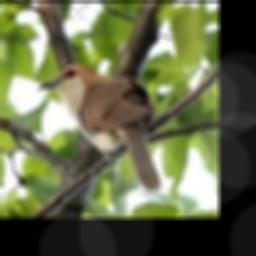Cuckoo: (39, 63, 161, 192)
